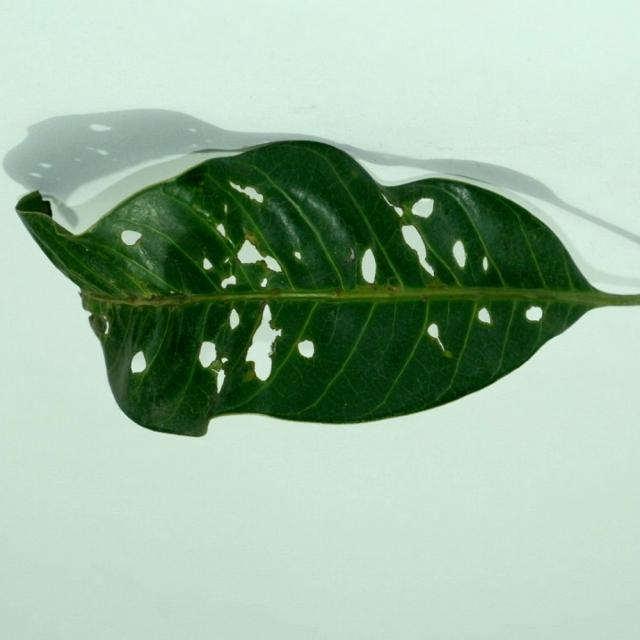Anthracnose: (18, 193, 127, 300), (395, 188, 494, 285), (414, 303, 500, 408), (231, 138, 383, 188), (93, 310, 149, 424), (127, 388, 212, 438), (571, 248, 640, 291), (195, 300, 235, 366), (3, 142, 53, 188), (291, 326, 330, 382), (219, 194, 250, 261), (176, 167, 223, 208), (511, 301, 561, 334), (16, 190, 55, 223), (336, 223, 359, 268), (522, 200, 556, 224), (187, 146, 255, 157), (263, 271, 290, 293), (403, 245, 424, 273), (203, 262, 220, 281), (398, 208, 415, 226), (412, 390, 431, 406), (256, 299, 269, 317), (386, 277, 401, 291), (25, 122, 41, 133), (241, 190, 254, 203), (269, 318, 281, 330), (223, 299, 234, 309)
Mango: (6, 111, 639, 440)
